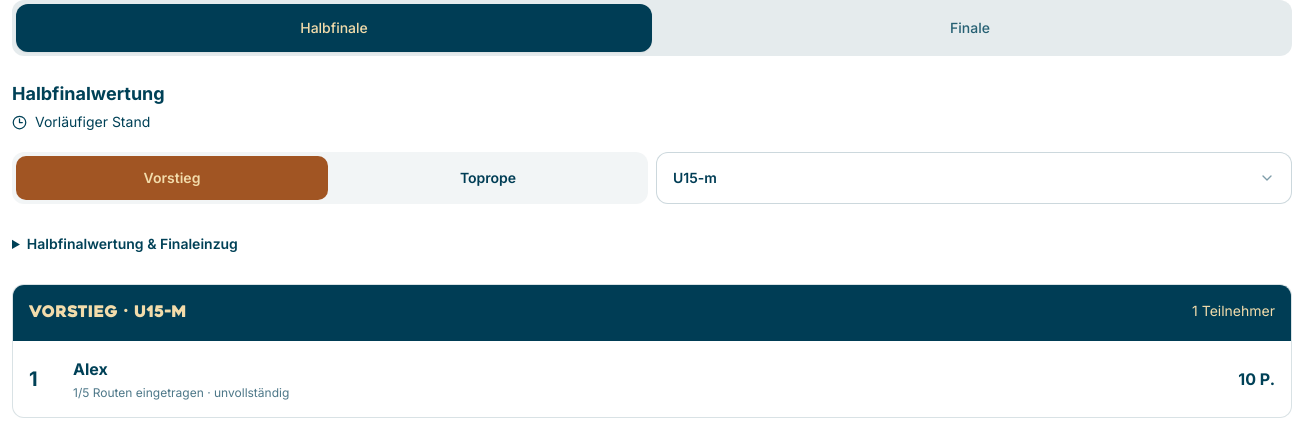
chooses an existing class when changing league and preserves it through phase and data updates
Later steps or results of the test are not shown.
Check: the text "Alex" is shown, box [73,359,108,379]
Click the button "Toprope" at (488, 178), box [332,156,644,200]
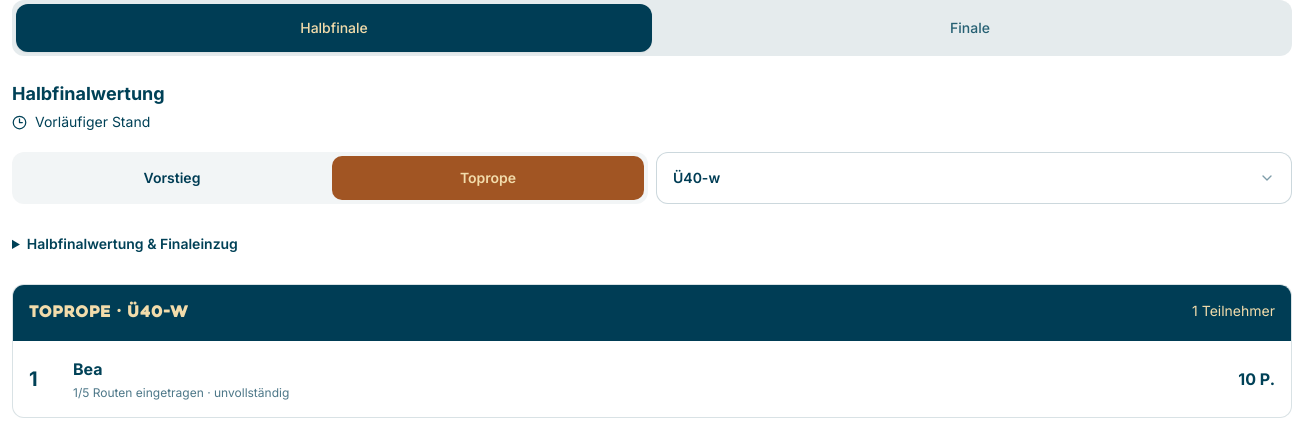
Check: the text "Bea" is shown, box [73,359,103,379]
Check: the dropdown named "Klasse" reads "Ü40-w", box [656,152,1292,204]
